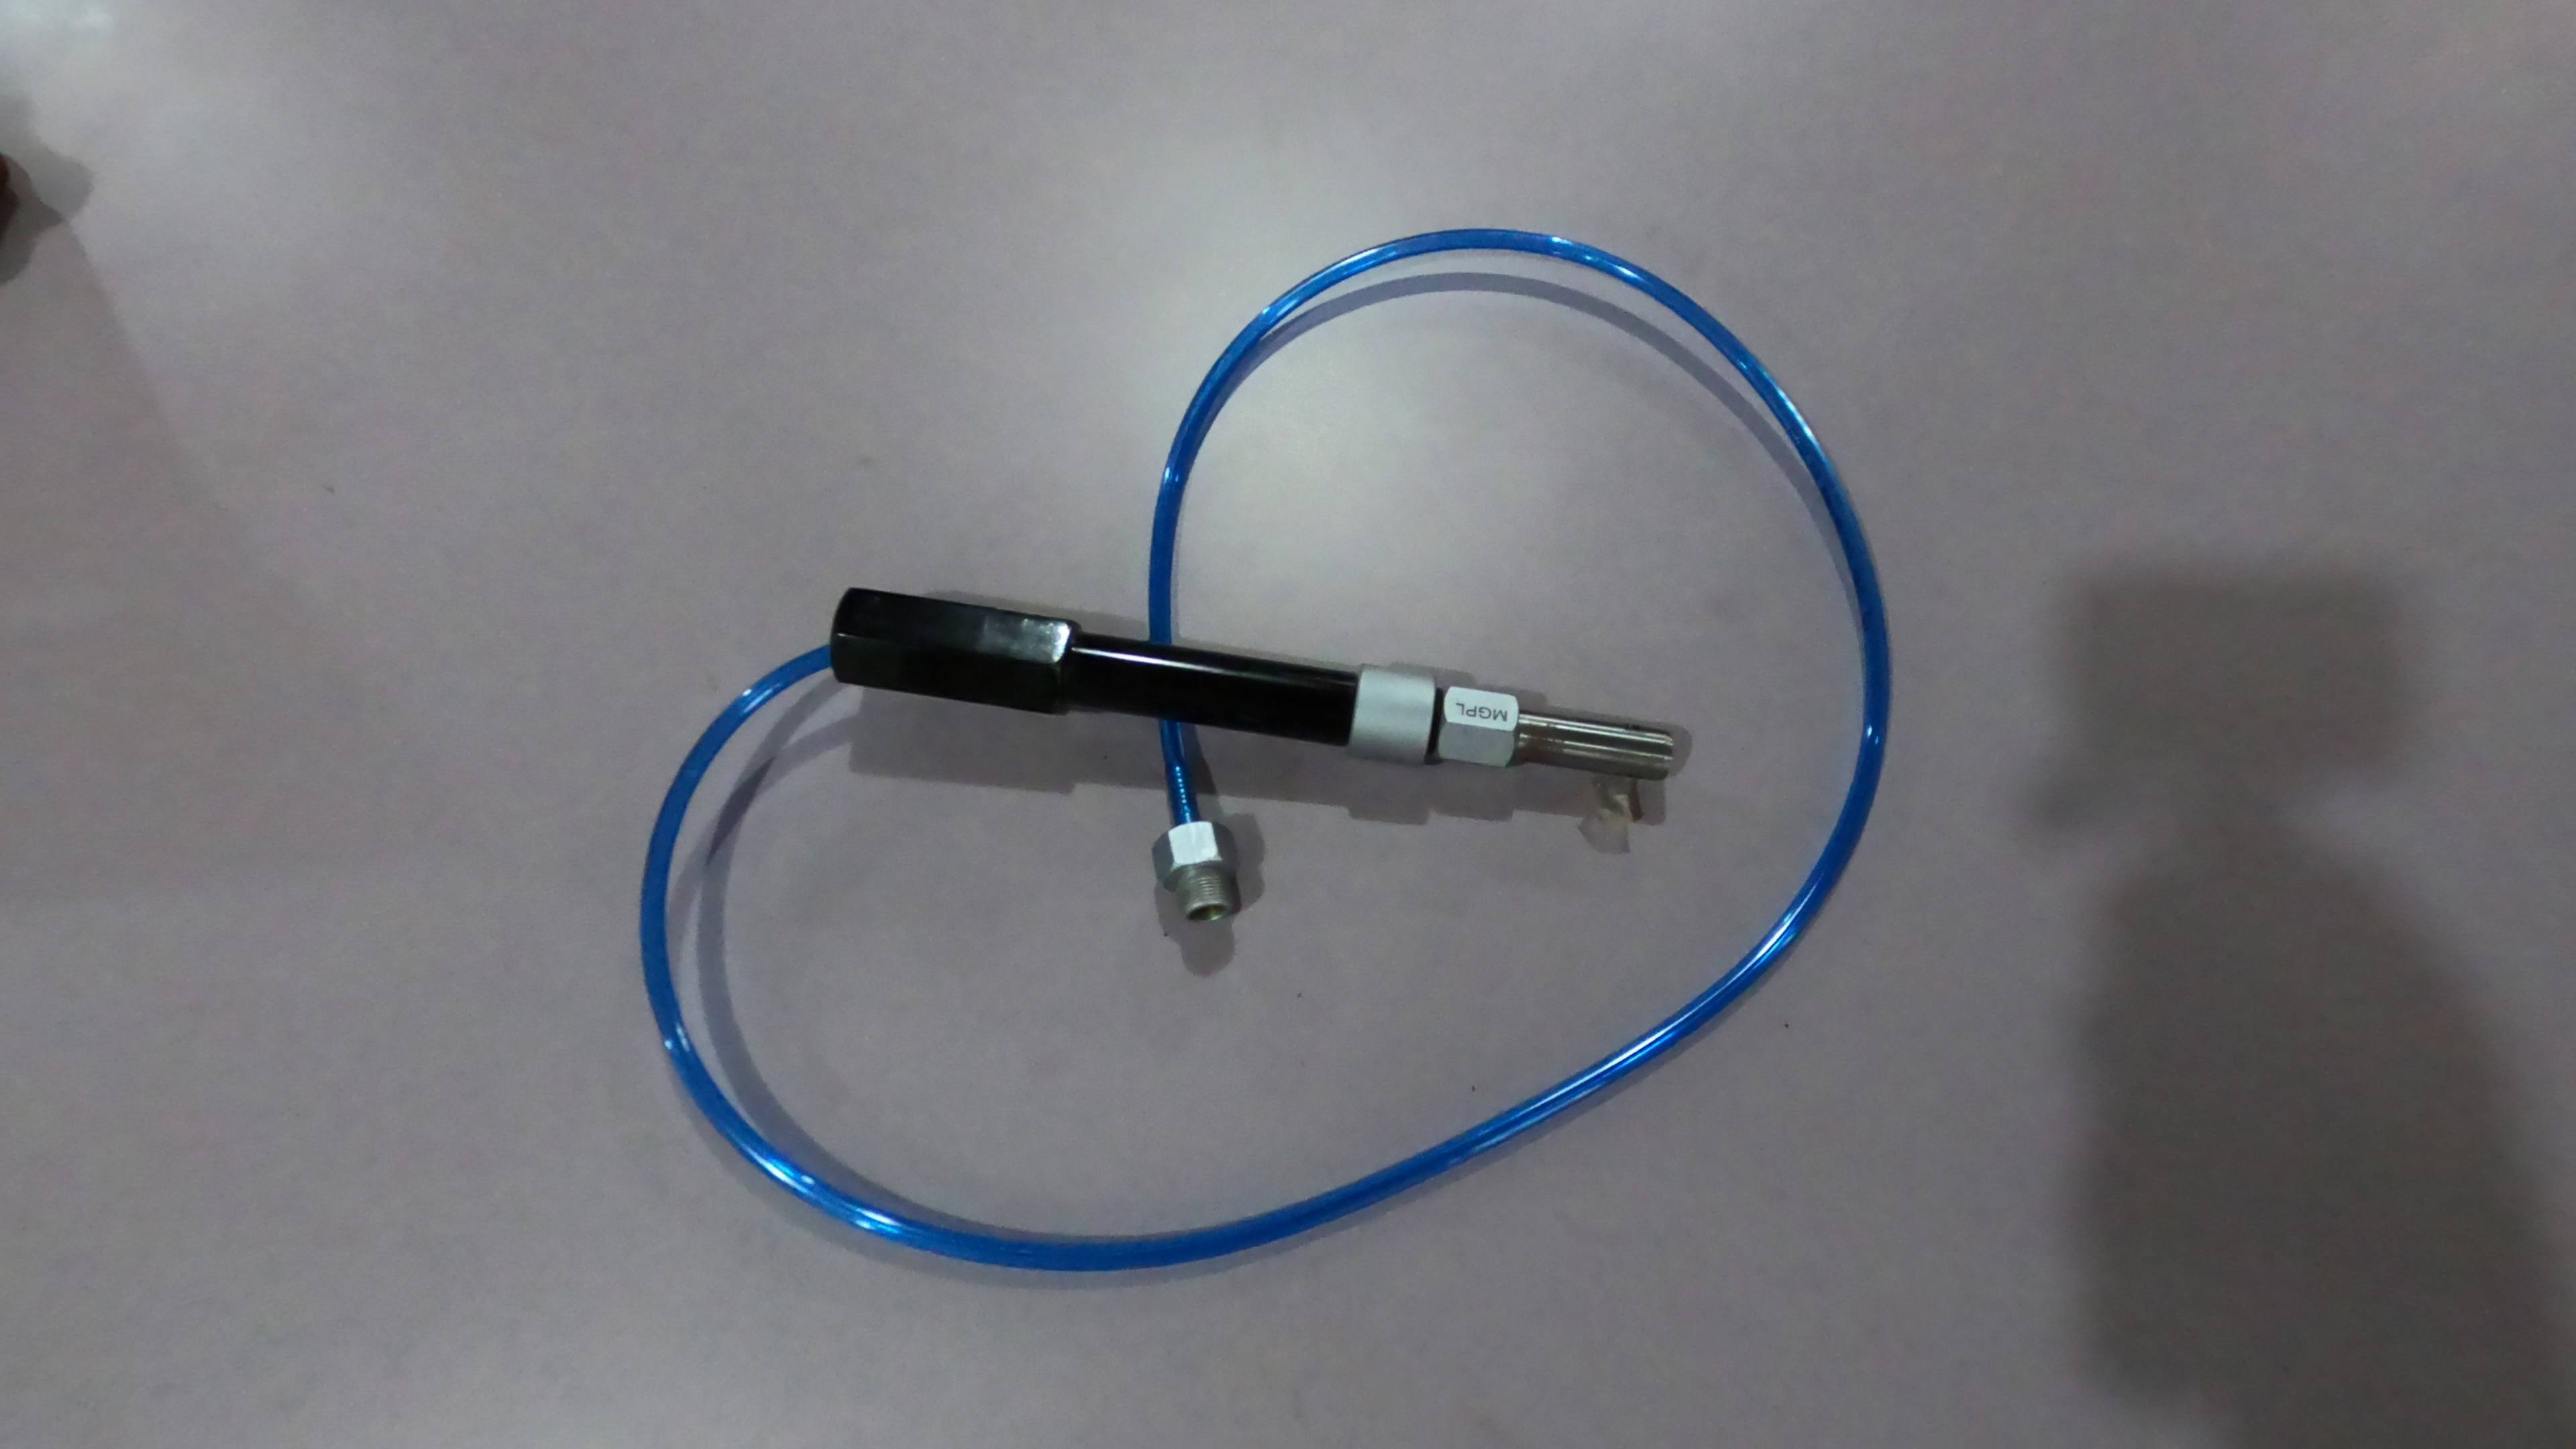air_gauge: (828, 570, 1688, 805)
